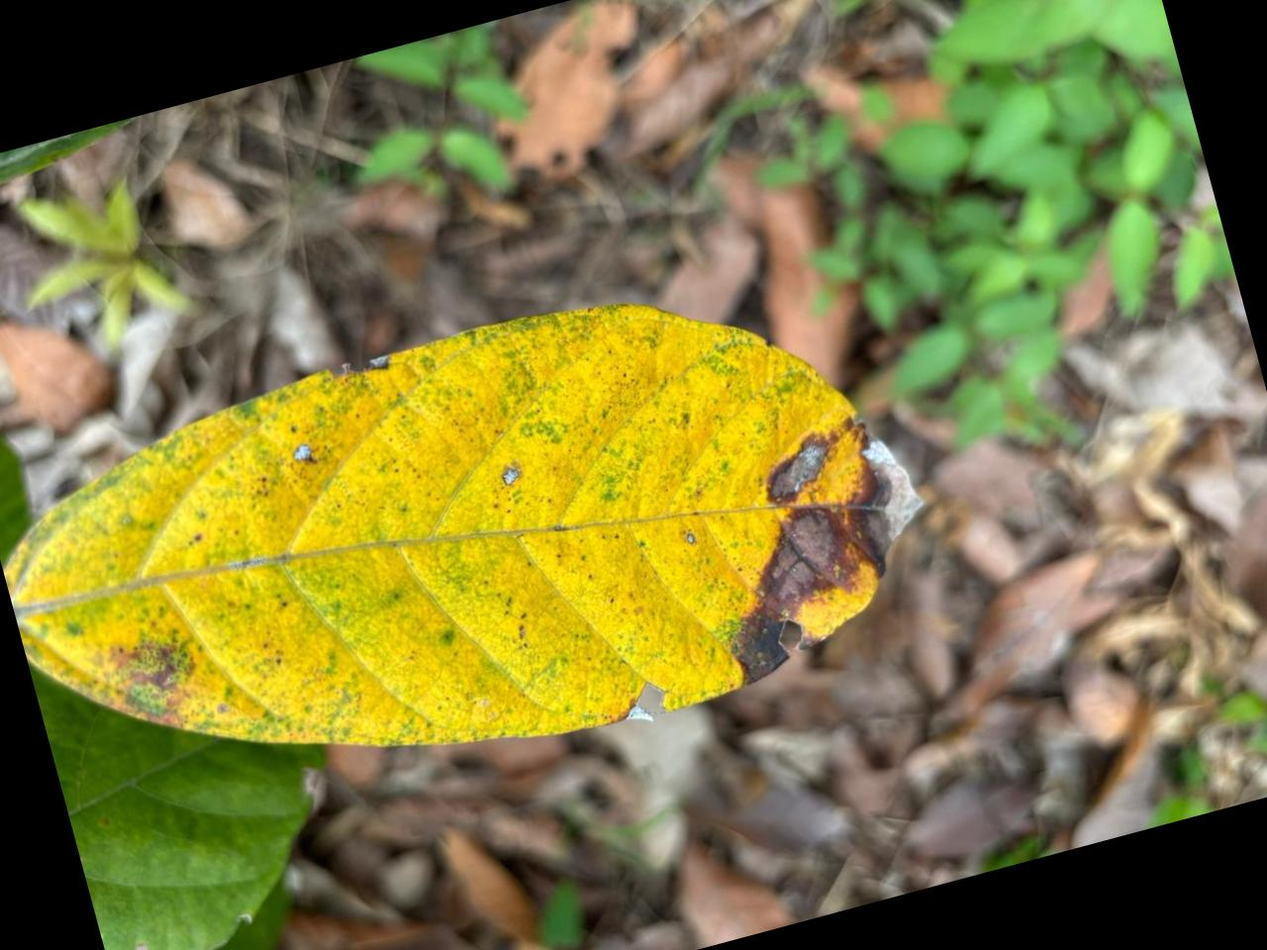Fosforo: (3, 304, 918, 744)
